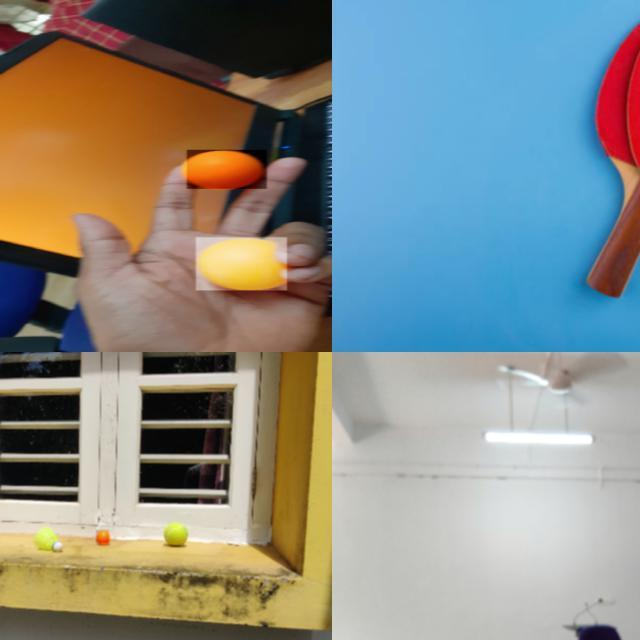ping-pong-ball: (195, 237, 288, 291), (186, 150, 268, 190), (96, 530, 110, 544)
